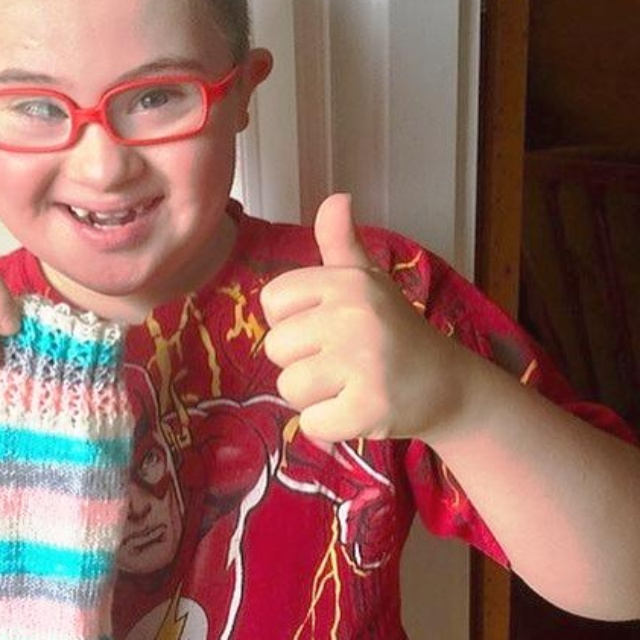thumbs_up: (251, 187, 449, 453)
